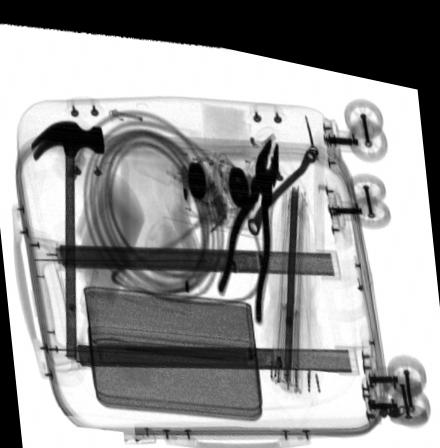Hammer: (28, 116, 104, 357)
Pliers: (215, 125, 280, 313)
Wrench: (247, 137, 315, 223)
